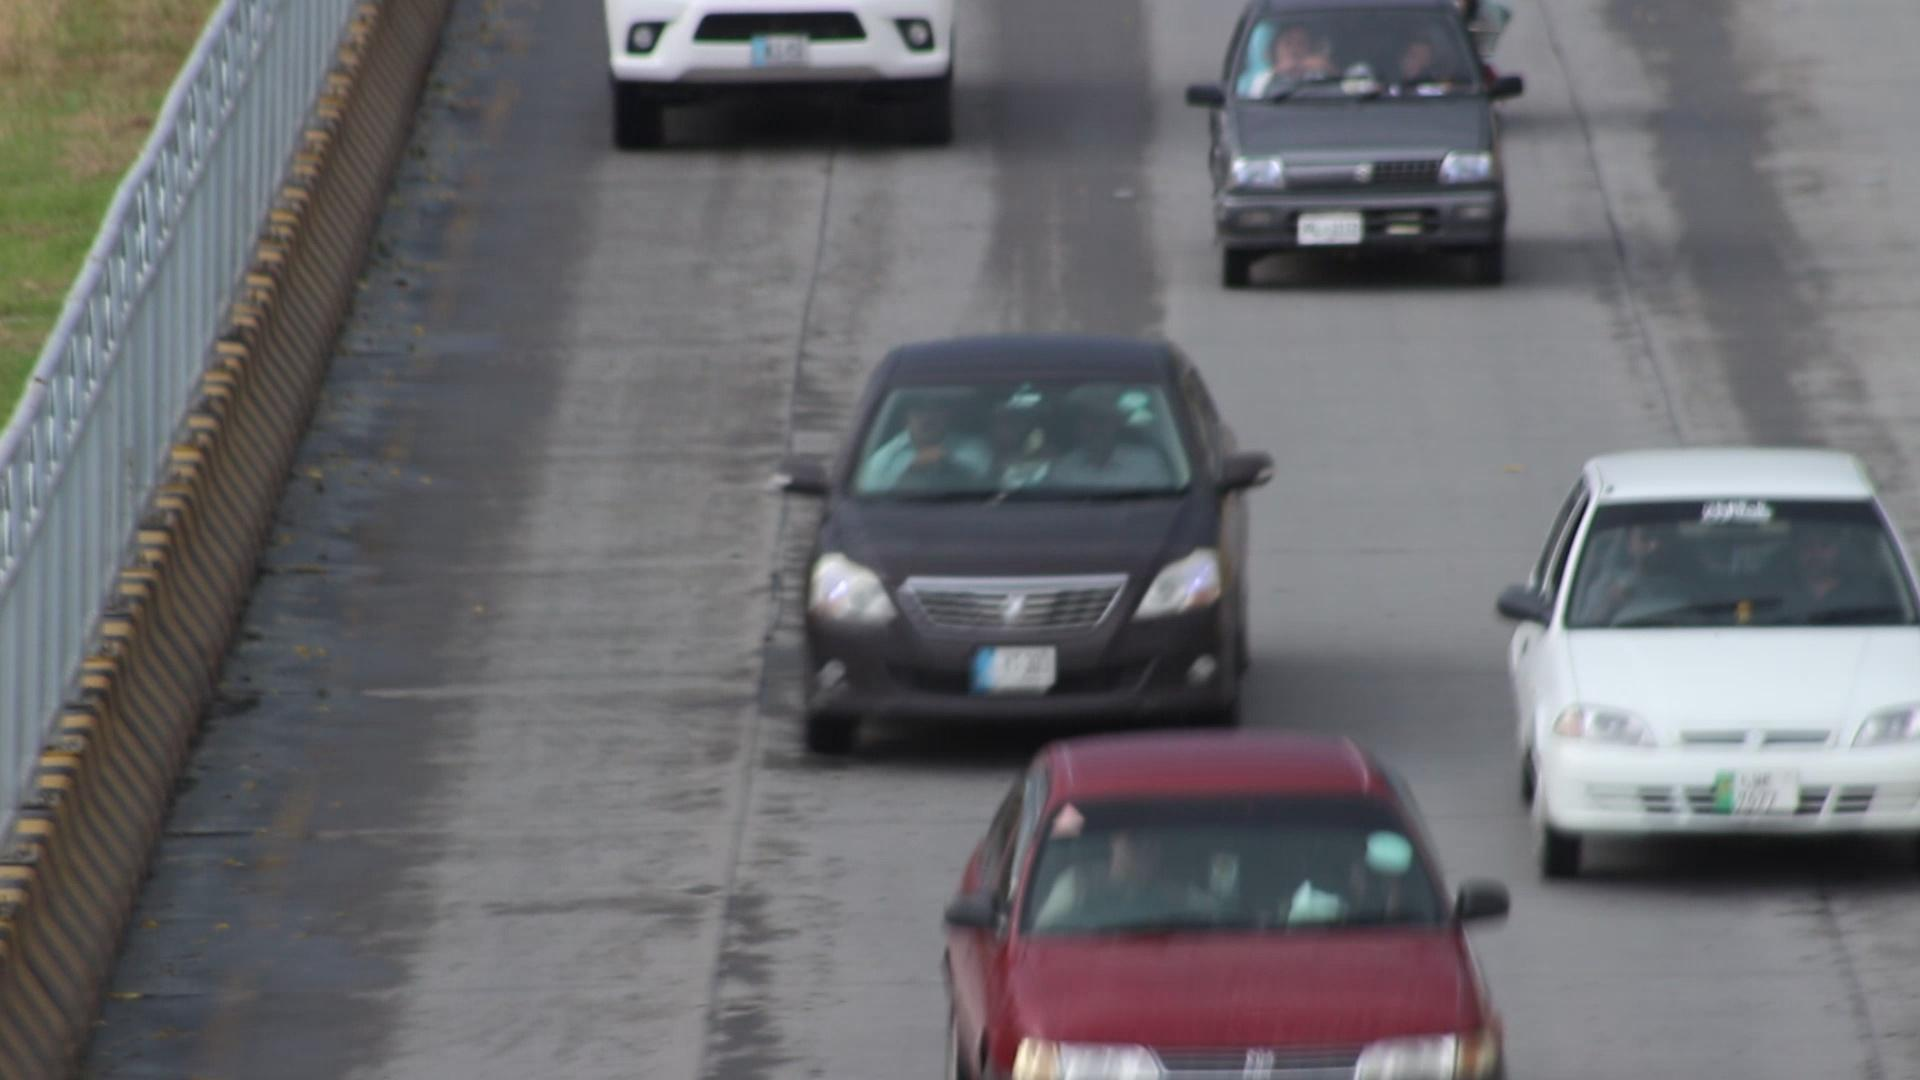windshield: (1014, 760, 1470, 953), (1553, 487, 1920, 630), (840, 356, 1204, 500), (1224, 4, 1494, 116)
